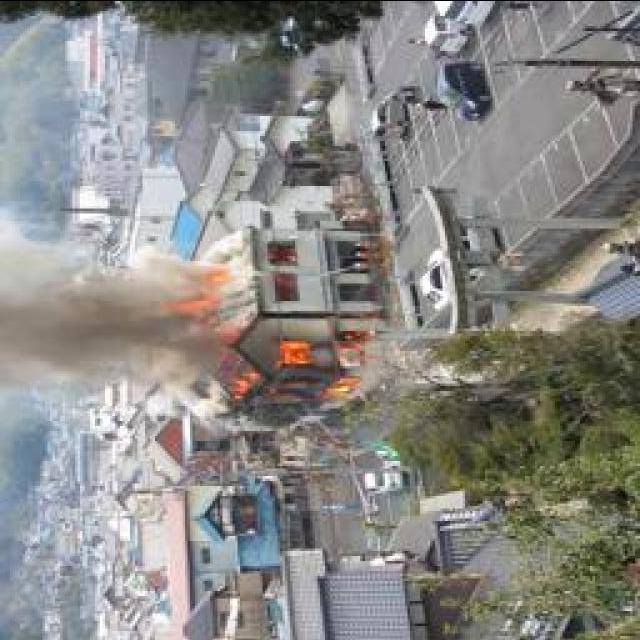Fire: (220, 330, 372, 407), (180, 263, 230, 310)
